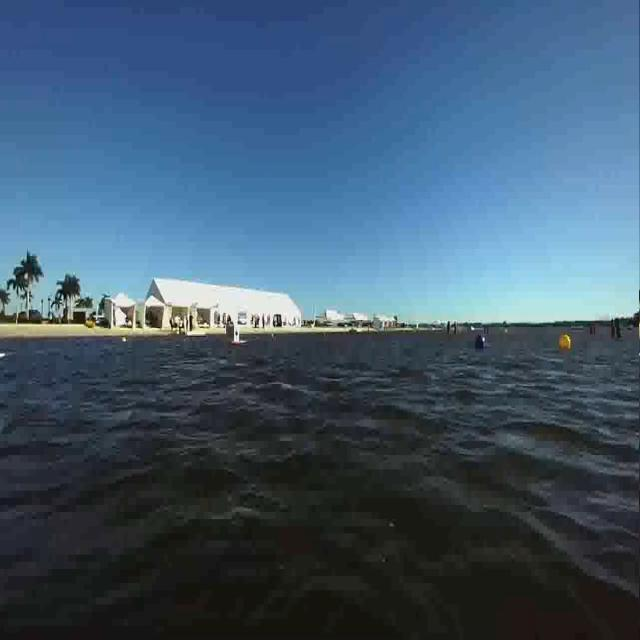blue-buoy: (473, 333, 485, 352)
yellow-buoy: (560, 334, 572, 353)
